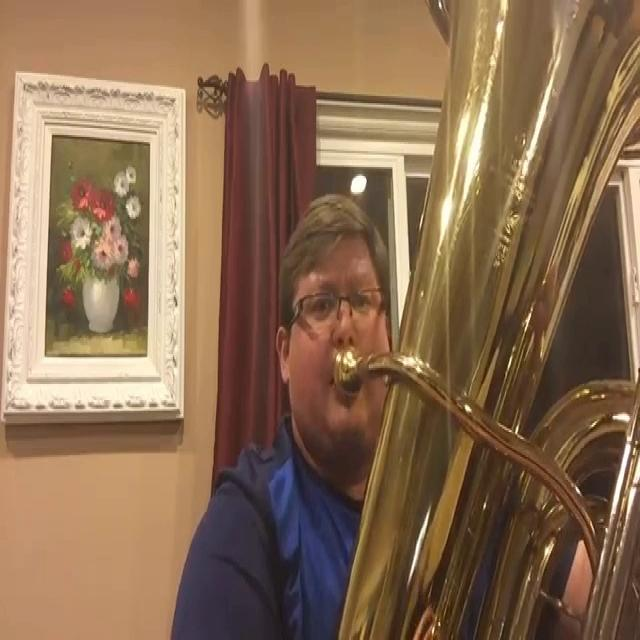Tuba: (328, 0, 640, 640)
